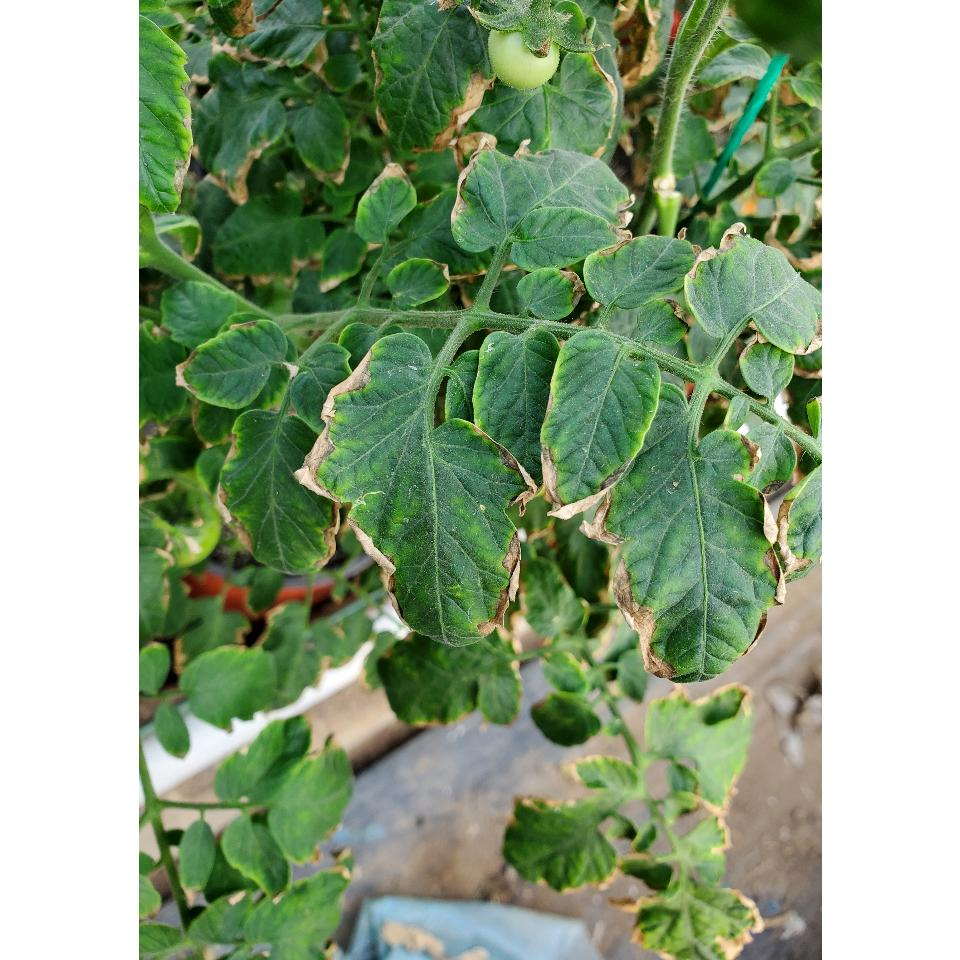tomato_bacterial_blight: (320, 329, 536, 650), (594, 418, 758, 678), (545, 331, 628, 525)
